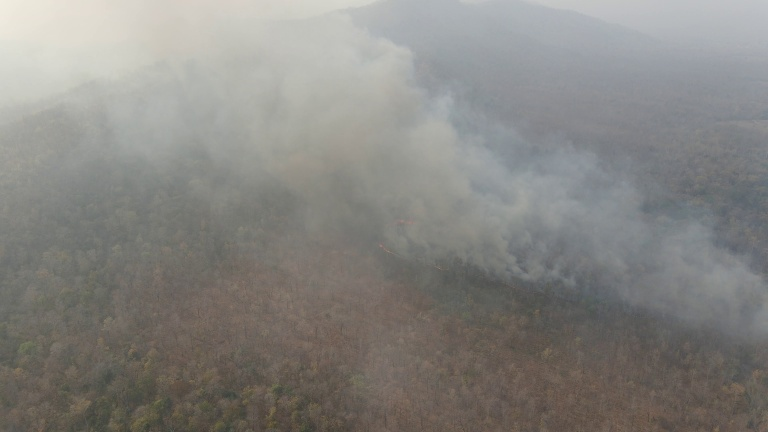fire: (377, 242, 404, 261), (393, 214, 420, 226), (432, 258, 453, 272)
smoke: (109, 1, 582, 287)
